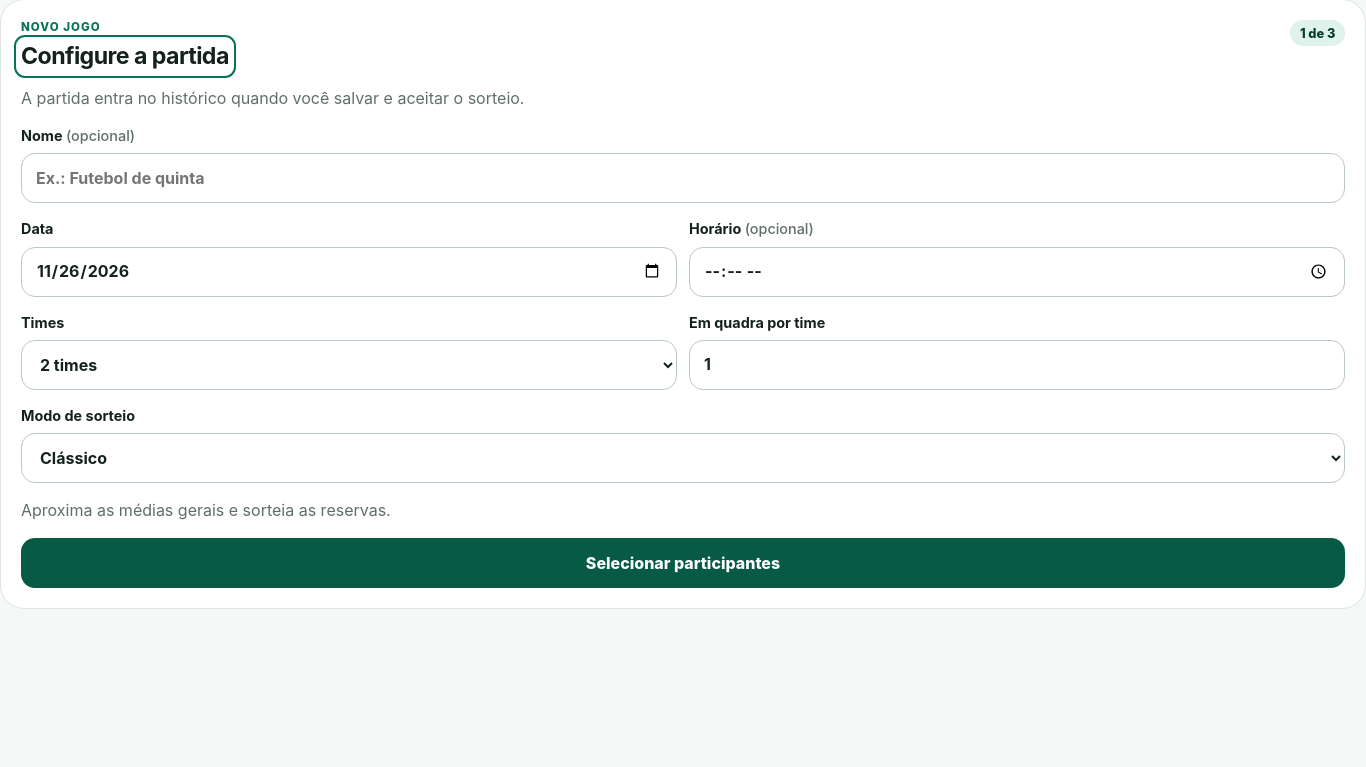
Scenario: persistência real no fluxo da Fase 7 › retira o aviso de saída somente após salvamento confirmado e notifica rascunho limpo
Click the button "Selecionar participantes" at (683, 563), box [21,538,1345,588]
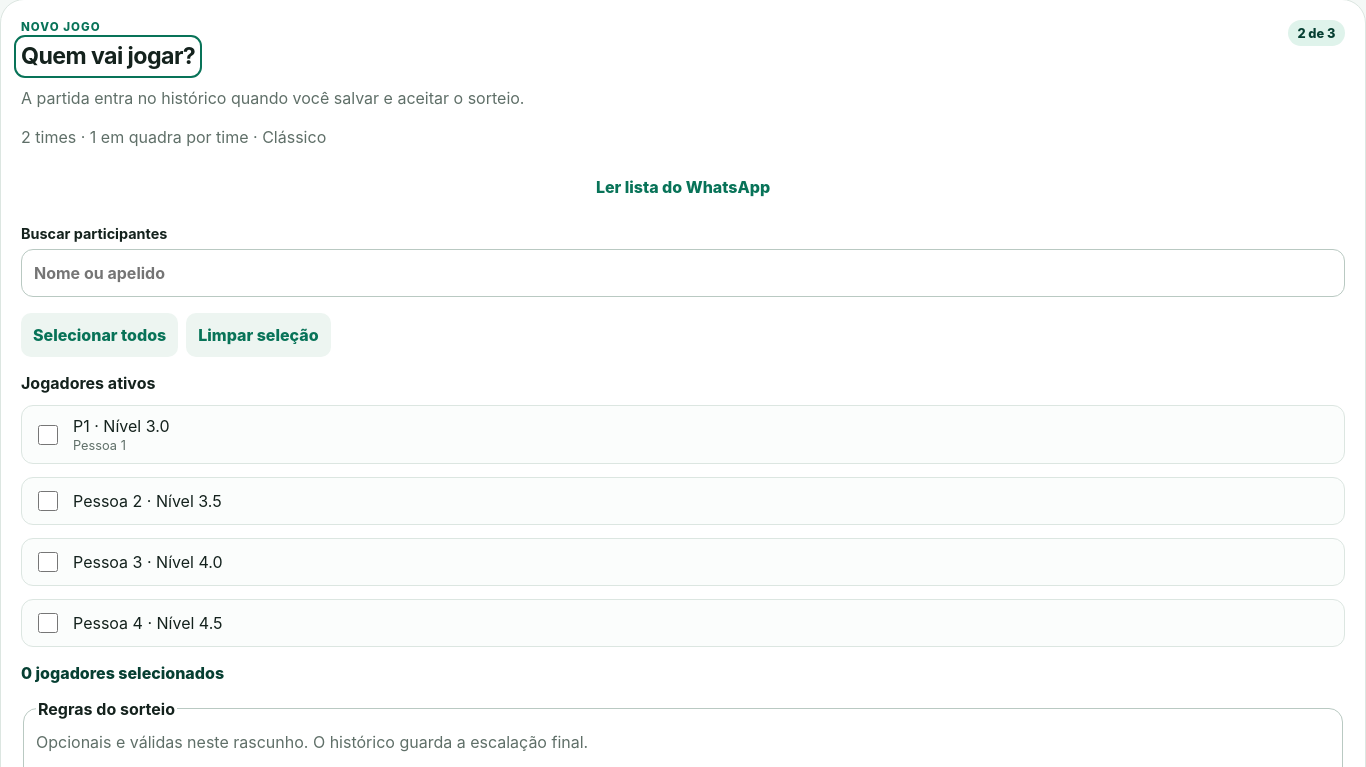
Click the button "Selecionar todos" at (100, 335), box [21,313,178,357]
(page scrolled)
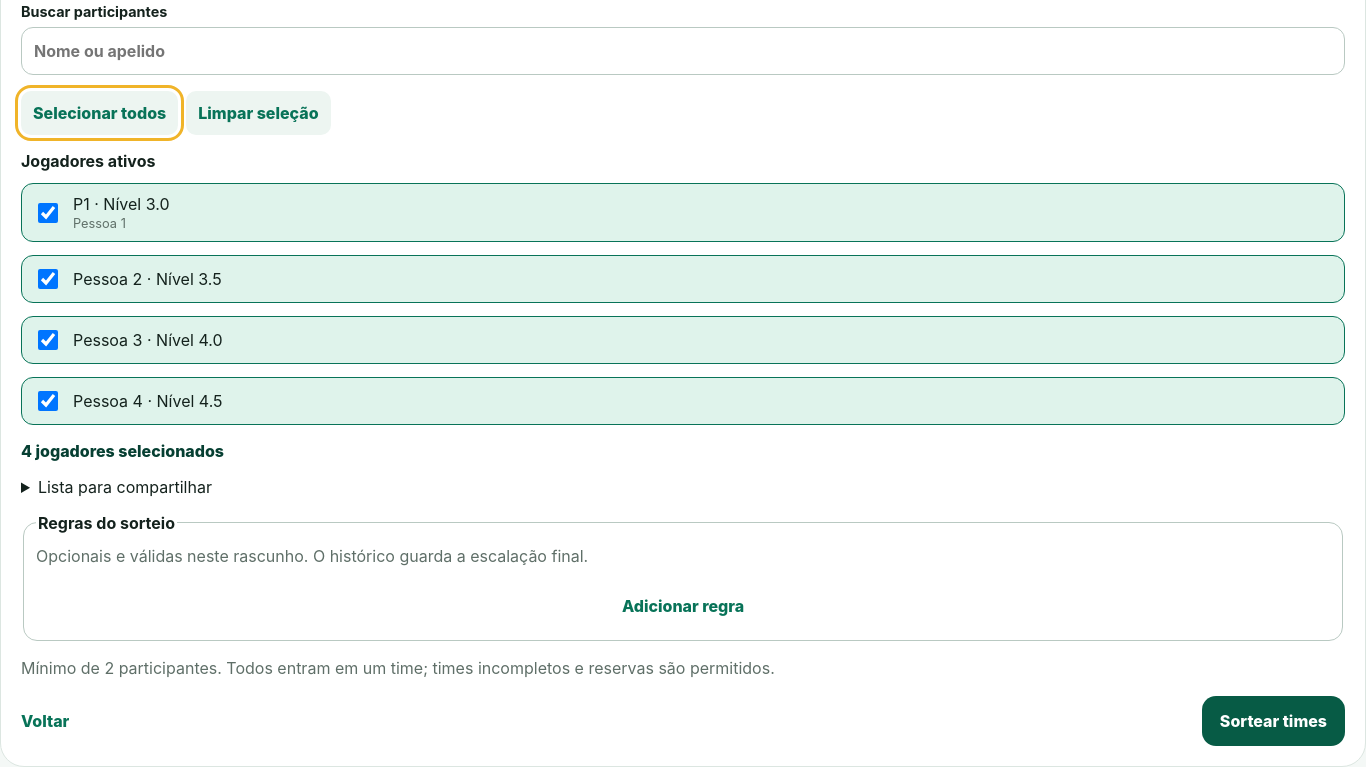
Click the button "Sortear times" at (1273, 721), box [1202,696,1345,746]
(page scrolled)
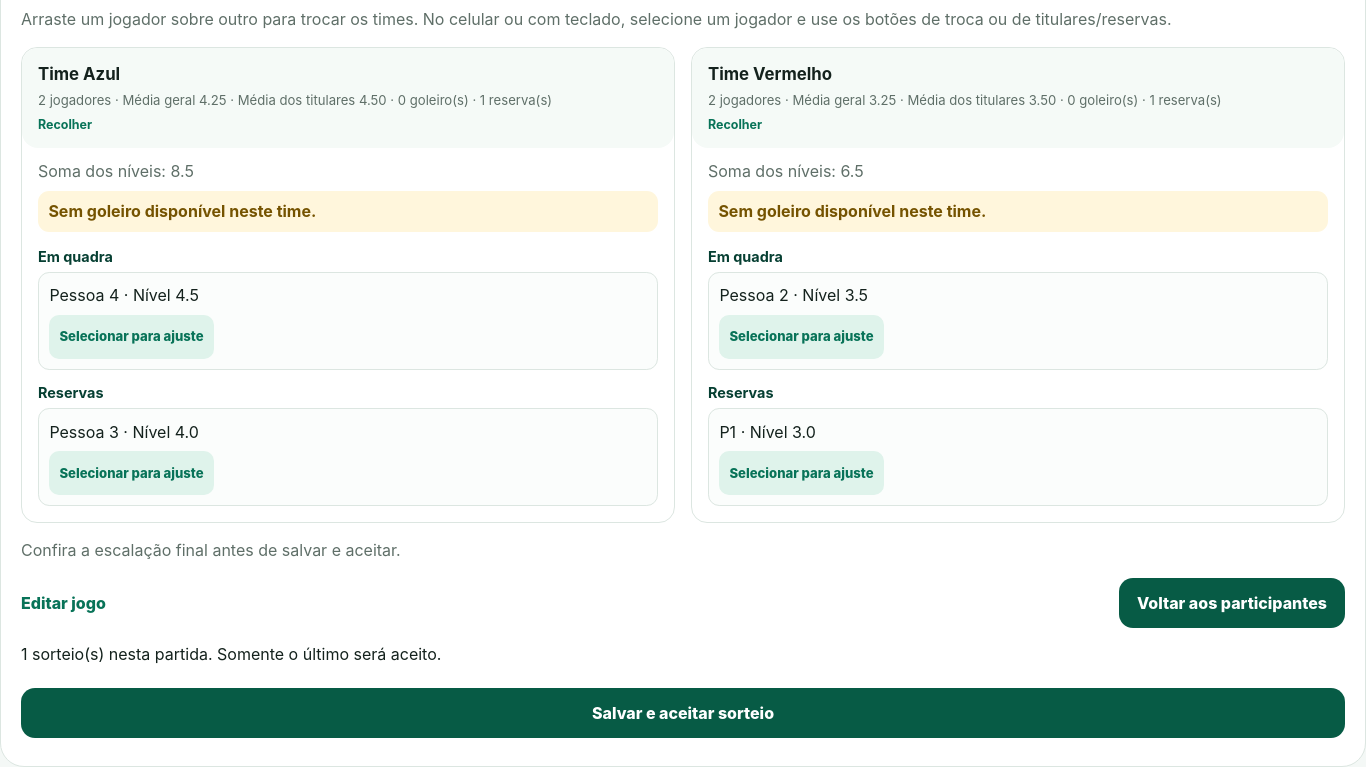
Click the button "Salvar e aceitar sorteio" at (683, 713), box [21,688,1345,738]
(page scrolled)
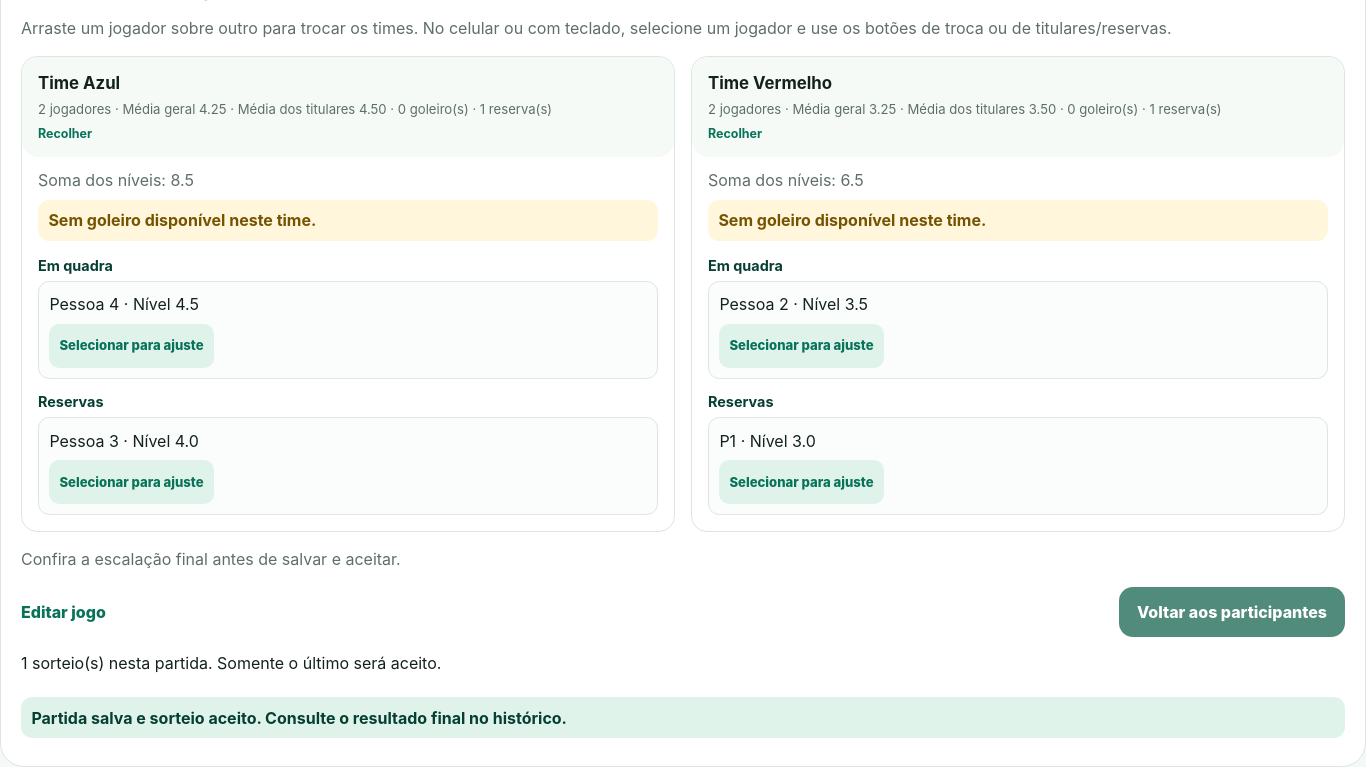
Expected: the text "Partida salva e sorteio aceito. Consulte o resultado final no histórico." is shown, [21,697,1345,738]
